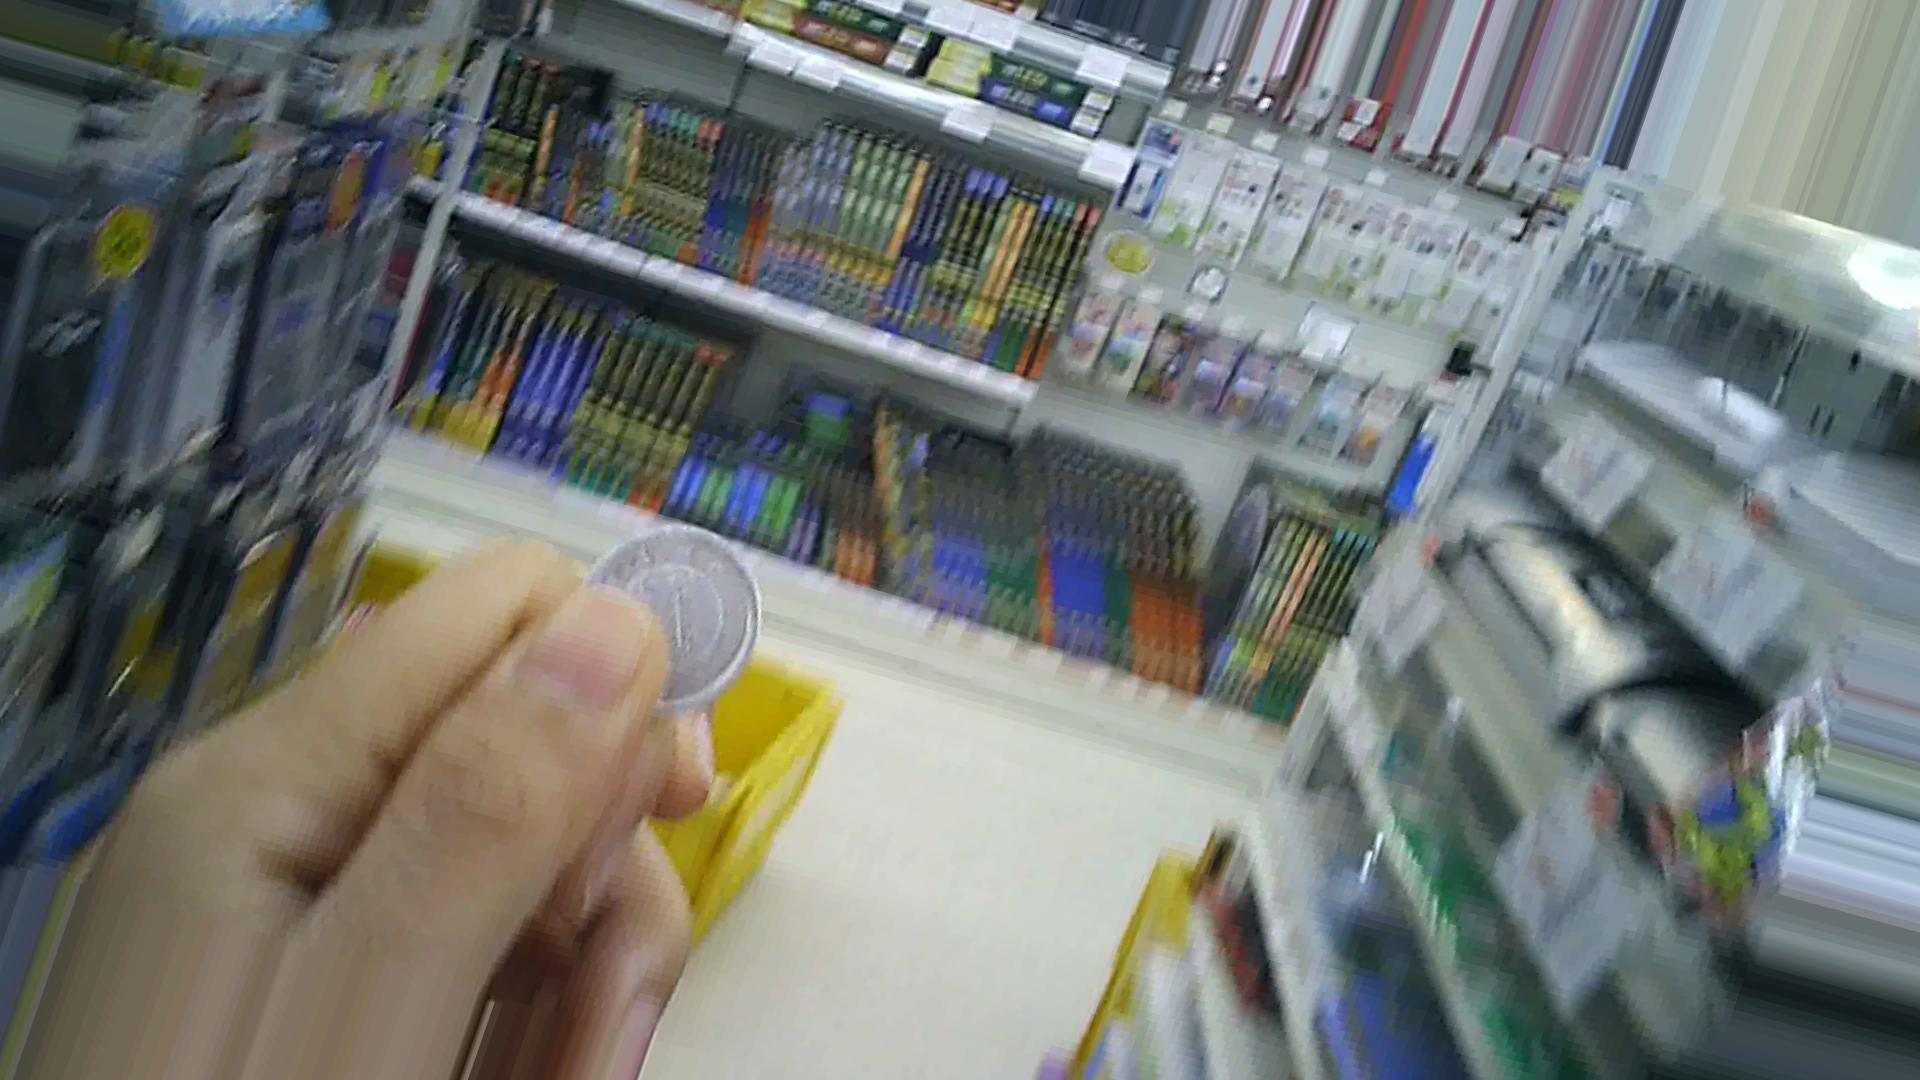1 Yen: (566, 510, 752, 703)
